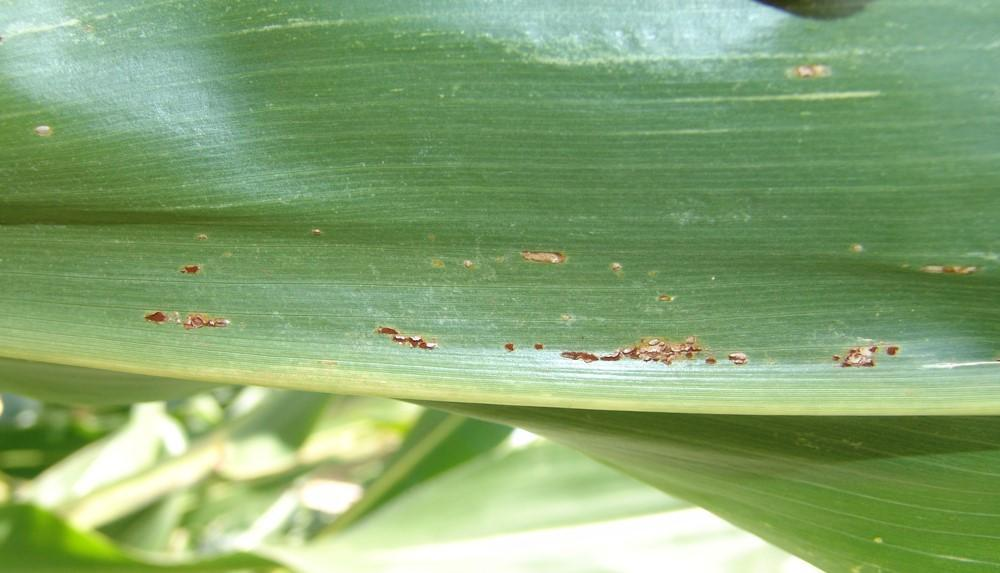Corn_Common_Rust: (487, 333, 760, 371), (136, 298, 247, 338), (813, 333, 913, 374), (360, 318, 447, 356), (500, 241, 593, 275), (783, 57, 842, 85), (925, 257, 983, 284), (173, 257, 219, 282), (652, 282, 680, 313), (307, 219, 328, 240)
